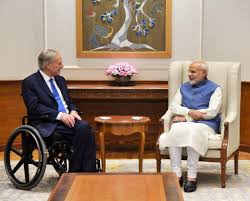Caution: (20, 50, 218, 169)
